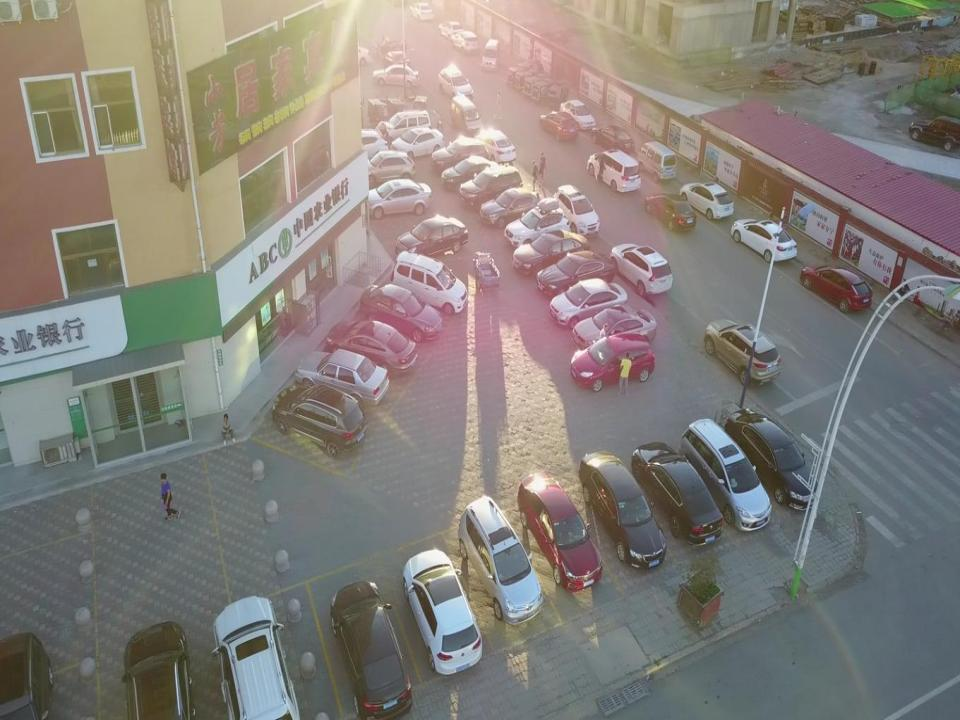car: (330, 580, 412, 720), (211, 596, 301, 720), (458, 496, 544, 623), (678, 417, 772, 532), (578, 450, 666, 569), (517, 472, 603, 592), (402, 549, 482, 675), (724, 408, 821, 510), (631, 441, 724, 546), (121, 621, 195, 720), (272, 383, 367, 458), (294, 348, 390, 407), (325, 320, 418, 377), (703, 319, 781, 386), (570, 333, 655, 392), (390, 250, 468, 314), (360, 284, 442, 343), (0, 633, 53, 719), (573, 305, 656, 352), (550, 278, 627, 328), (536, 250, 616, 296), (511, 229, 588, 276), (800, 264, 872, 314), (609, 244, 673, 297), (395, 216, 469, 260), (731, 219, 797, 263), (506, 206, 570, 250), (460, 165, 524, 209), (480, 186, 545, 228), (365, 179, 431, 219), (587, 149, 641, 193), (440, 154, 500, 191), (360, 150, 416, 188), (679, 182, 733, 220), (430, 136, 490, 170), (644, 193, 696, 231), (391, 127, 444, 161), (337, 129, 389, 161), (383, 109, 433, 142), (480, 130, 518, 164), (438, 65, 474, 100), (539, 110, 580, 140), (590, 125, 635, 152), (372, 64, 419, 88), (559, 100, 596, 129), (330, 41, 370, 67), (450, 30, 477, 54), (384, 50, 410, 70), (438, 21, 464, 40), (410, 2, 434, 22)
truck: (524, 73, 548, 98), (505, 66, 532, 88), (517, 58, 544, 80), (546, 81, 568, 107), (514, 69, 540, 90), (532, 78, 554, 102)
van: (636, 141, 676, 183), (451, 94, 483, 135), (481, 38, 500, 72)
